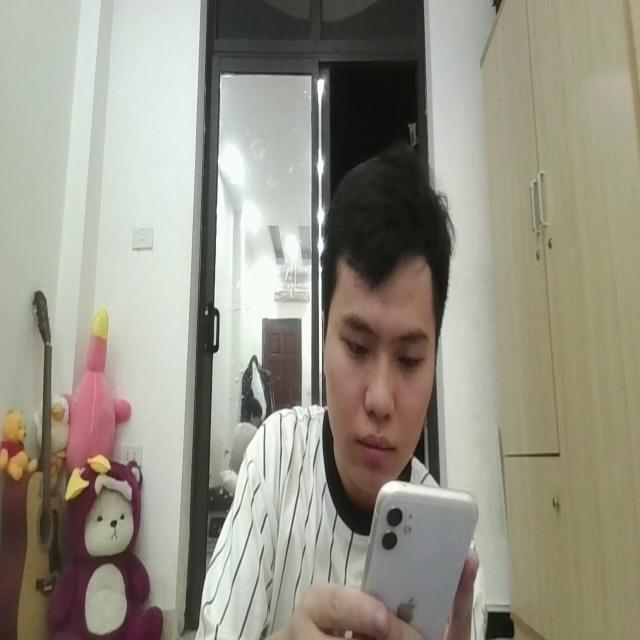phone: (358, 477, 478, 640)
student: (193, 139, 485, 640)
